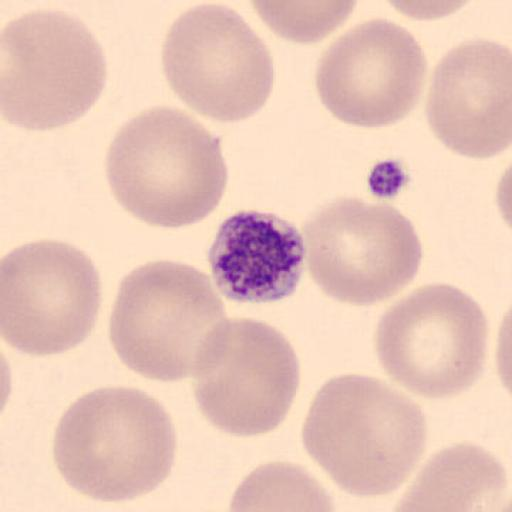Platelet: (205, 207, 310, 306)
RBC: (300, 371, 430, 499), (104, 103, 230, 230), (107, 257, 230, 385), (50, 384, 178, 505), (298, 192, 424, 306), (159, 2, 276, 124), (372, 280, 490, 400), (188, 314, 302, 438), (2, 8, 110, 133), (313, 16, 428, 130), (3, 238, 104, 359), (424, 37, 512, 159), (388, 438, 511, 512), (227, 460, 338, 512), (246, 0, 360, 44), (388, 479, 477, 512), (380, 0, 479, 21), (492, 155, 512, 240), (494, 311, 512, 400), (495, 161, 512, 231), (0, 344, 14, 418)
